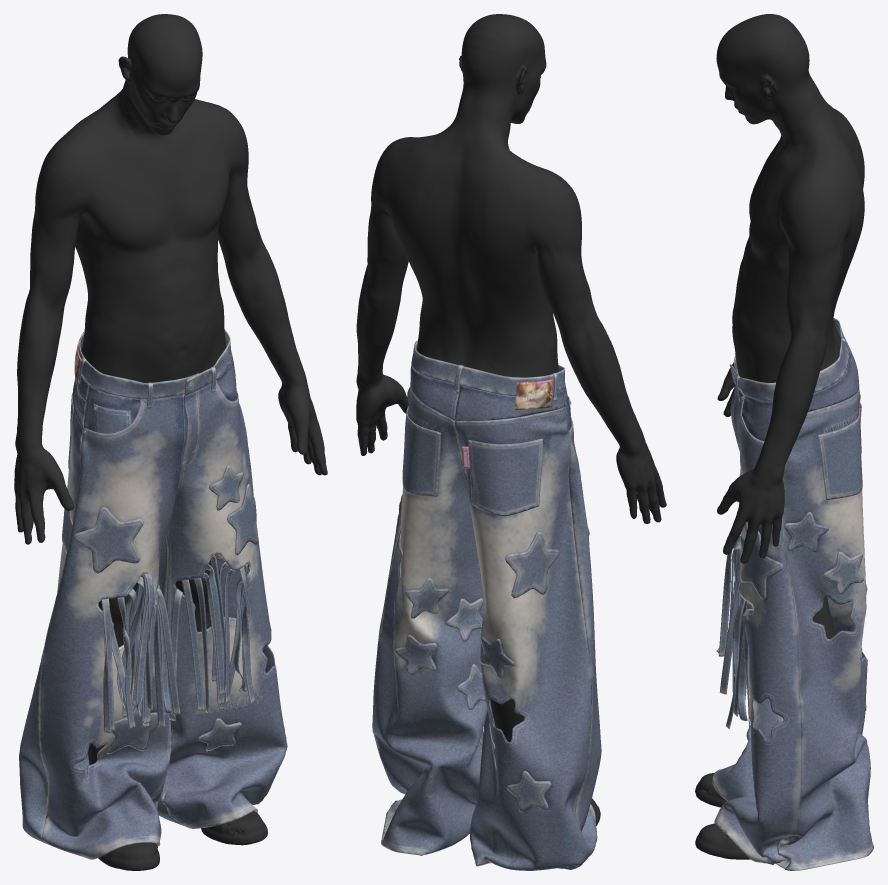
The model's file is oversized_baggy_custom_jeans.glb.
3 views of the same model, side by side, from view 1: azimuth 30°, elevation 25°; view 2: azimuth 150°, elevation 25°; view 3: azimuth 270°, elevation 25° (orthographic).
Visible parts, largest first — view 1: Milky-Way-Pants_SKVORSOW, body; view 2: Milky-Way-Pants_SKVORSOW, body; view 3: Milky-Way-Pants_SKVORSOW, body.
Boxes of the visible parts, x1=… form: Milky-Way-Pants_SKVORSOW: x1=19, y1=329, x2=287, y2=859; body: x1=14, y1=14, x2=327, y2=870; Milky-Way-Pants_SKVORSOW: x1=372, y1=340, x2=601, y2=870; body: x1=356, y1=14, x2=666, y2=825; Milky-Way-Pants_SKVORSOW: x1=712, y1=318, x2=873, y2=870; body: x1=695, y1=14, x2=864, y2=859.
Size of the model in its own units: 0.7109 by 1.87 by 0.3757.
Materials: 2 (1 with a texture image).
